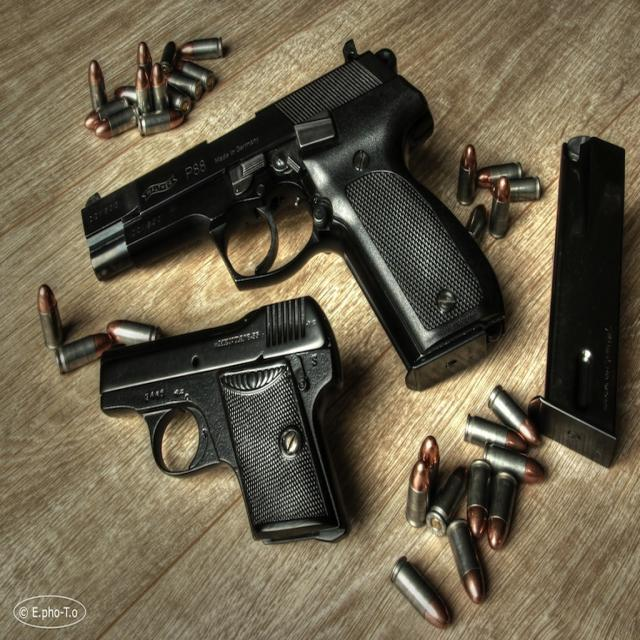Pistol: (58, 35, 530, 391)
